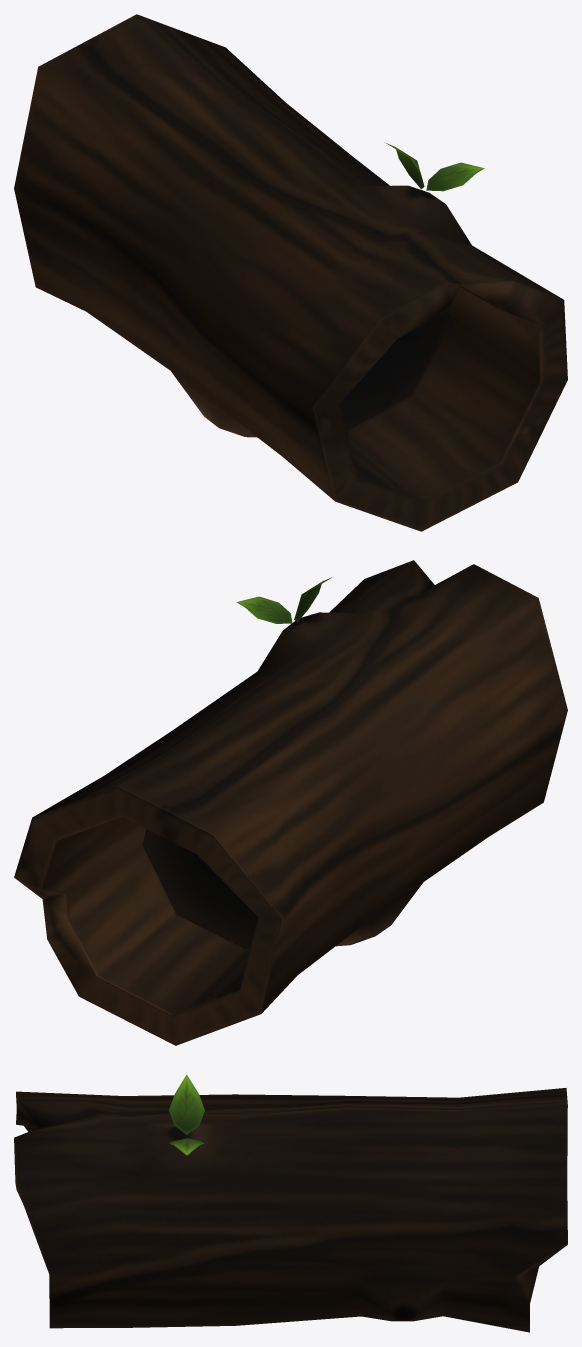
Rendered from old-trunk2.fbx.
3 views of the same model, one above another, from view 1: azimuth 30°, elevation 25°; view 2: azimuth 150°, elevation 25°; view 3: azimuth 270°, elevation 25° (orthographic). The views are drawn at different scales.
Parts seen in each view (by area): view 1: old_trunk, leaf_1; view 2: old_trunk, leaf_1; view 3: old_trunk, leaf_2.
Part boxes in pixels (x1=…): old_trunk: x1=14, y1=14, x2=567, y2=531; leaf_1: x1=426, y1=162, x2=484, y2=191; old_trunk: x1=14, y1=560, x2=567, y2=1045; leaf_1: x1=236, y1=596, x2=292, y2=623; old_trunk: x1=14, y1=1088, x2=567, y2=1332; leaf_2: x1=169, y1=1074, x2=204, y2=1134.
Bounding box in the file's own units: 52.24 × 61.85 × 120.
Materials: 2 (2 with a texture image).
